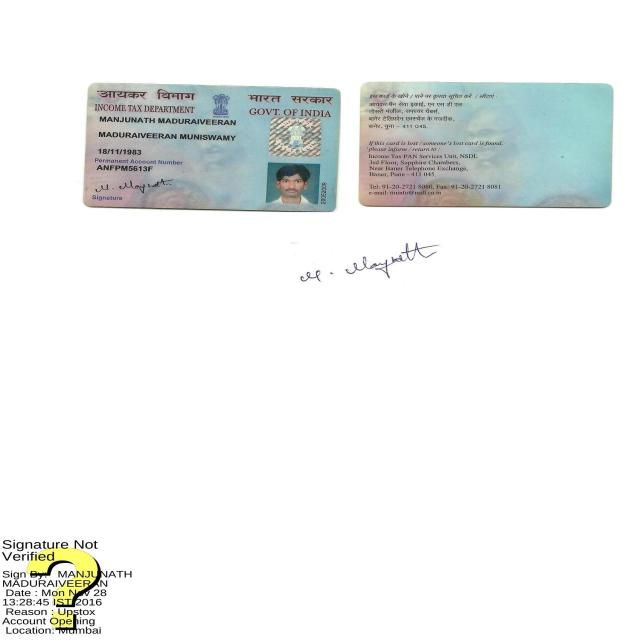pan_card: (82, 85, 341, 212), (359, 82, 611, 208)
